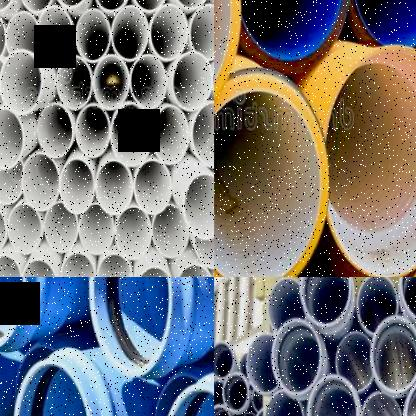pipe: (214, 73, 329, 277), (324, 43, 416, 277), (227, 0, 352, 72), (90, 277, 172, 376), (13, 360, 93, 416), (272, 318, 322, 396), (345, 0, 416, 53), (370, 314, 416, 394), (0, 48, 43, 114), (110, 102, 152, 168), (172, 50, 214, 112), (299, 277, 351, 327), (336, 331, 376, 393), (356, 277, 398, 334), (307, 373, 360, 416), (21, 153, 60, 211), (151, 3, 188, 62), (111, 5, 149, 62), (153, 105, 189, 165), (95, 160, 133, 216), (36, 5, 73, 62), (247, 334, 281, 396), (133, 160, 172, 214), (130, 54, 167, 110), (56, 54, 93, 110), (93, 54, 130, 110), (269, 278, 306, 334), (152, 205, 190, 259), (115, 206, 152, 260), (75, 8, 111, 63), (184, 174, 214, 240), (60, 158, 94, 214), (38, 104, 73, 158), (76, 104, 110, 158), (159, 383, 214, 416), (7, 205, 43, 255), (79, 204, 114, 255), (44, 202, 78, 254), (0, 106, 24, 170), (6, 10, 38, 56), (192, 102, 214, 168), (189, 3, 214, 60), (223, 372, 250, 413), (361, 391, 402, 416), (264, 390, 303, 416), (0, 160, 23, 204), (194, 219, 214, 269), (96, 253, 134, 277), (60, 253, 96, 277), (214, 341, 233, 378), (21, 259, 58, 277), (175, 263, 214, 277), (0, 254, 22, 277), (93, 0, 131, 13), (18, 0, 54, 13), (131, 0, 168, 12), (135, 267, 175, 277), (0, 205, 6, 256), (214, 379, 224, 408), (0, 12, 6, 59), (0, 52, 4, 112), (214, 404, 232, 416), (238, 412, 257, 416)
